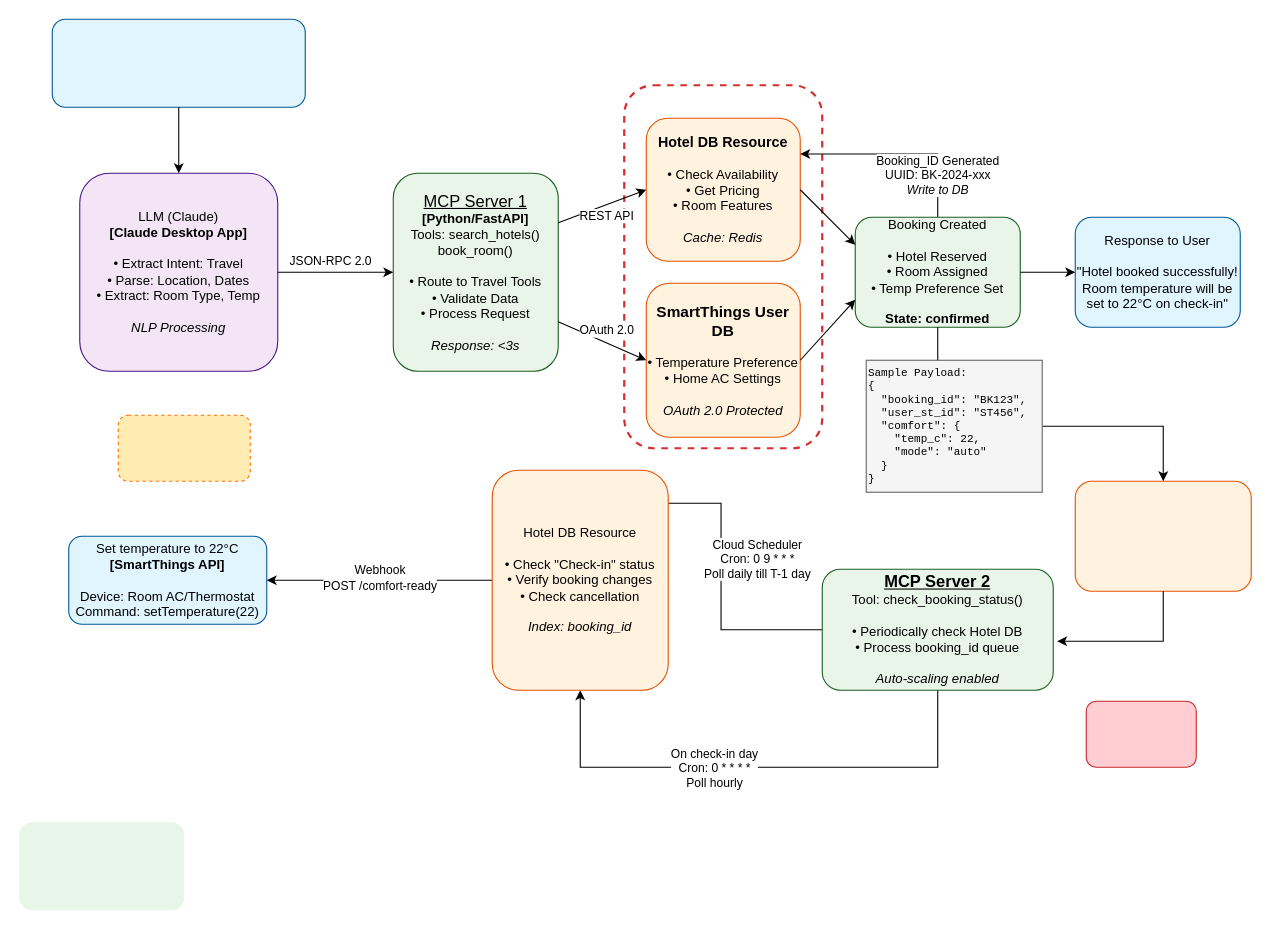
Some shapes in this 1271 by 930 pixel diagram are drawn without their labels. Each missing label, with the centre of its shape:
API Gateway Rate Limit: TBD Auth: JWT tokens: [183,447]
Error Handler Retry Queue Max retries: 3: [1140,733]
Future User Action DB [Redis Queue] State: pending→check_in_ready: [1162,535]
Tech Stack: • FastAPI + MCP SDK • PostgreSQL + Redis • OAuth 2.0 / JWT: [101,866]
User Input "Book me a deluxe room in Seoul for next week at 22°C": [178,62]
